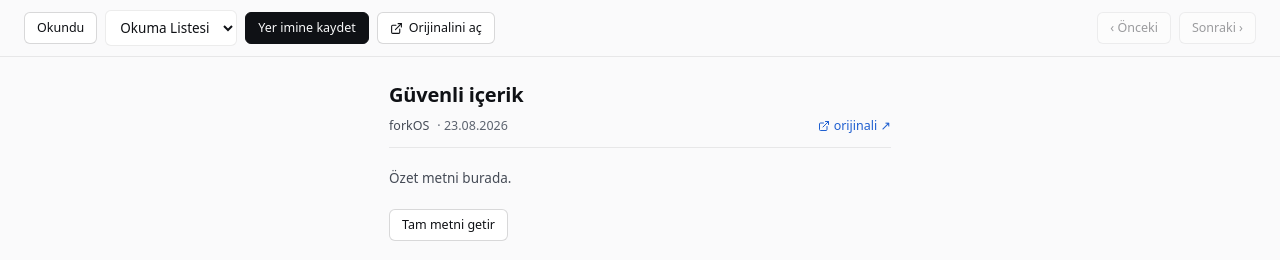
Test: RSS tam metin › toggle ile özet ve tam metin arasında geçiş yapılır
Step 1. Click the button "Tam metni getir" → (448, 225), box [389,209,508,241]
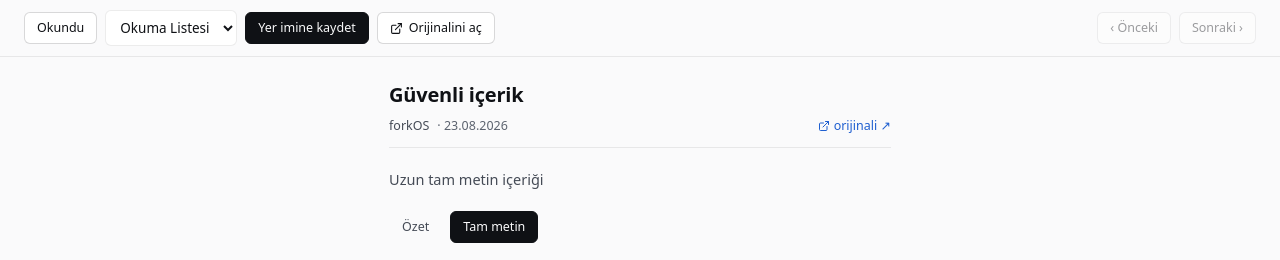
Check: the text "Uzun tam metin içeriği" is shown, box [389,168,544,188]
Step 2. Click the button "Özet" → (416, 227), box [389,211,442,243]
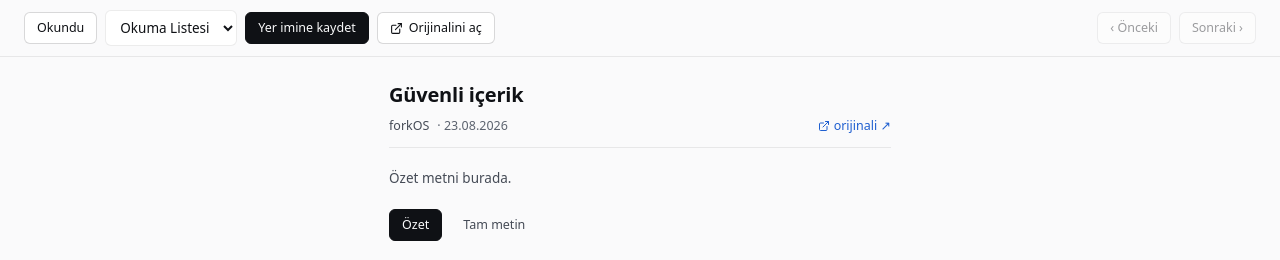
Check: the text "Özet metni burada." is shown, box [389,168,511,186]
Step 3. Click the button "Tam metin" → (494, 225), box [450,209,538,241]
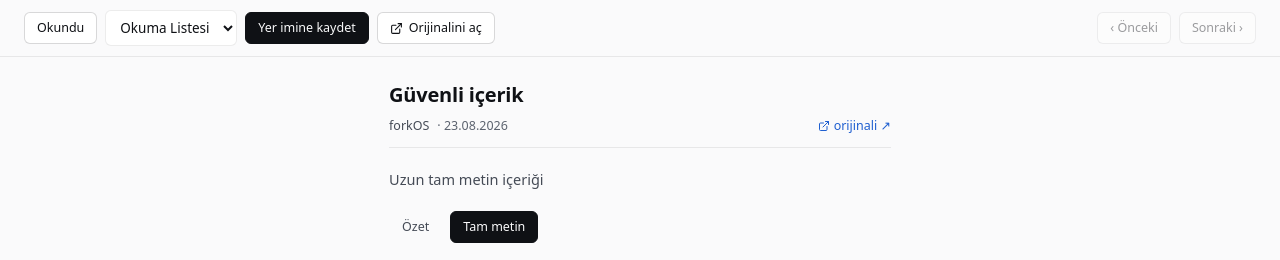
Check: the text "Uzun tam metin içeriği" is shown, box [389,168,544,188]
